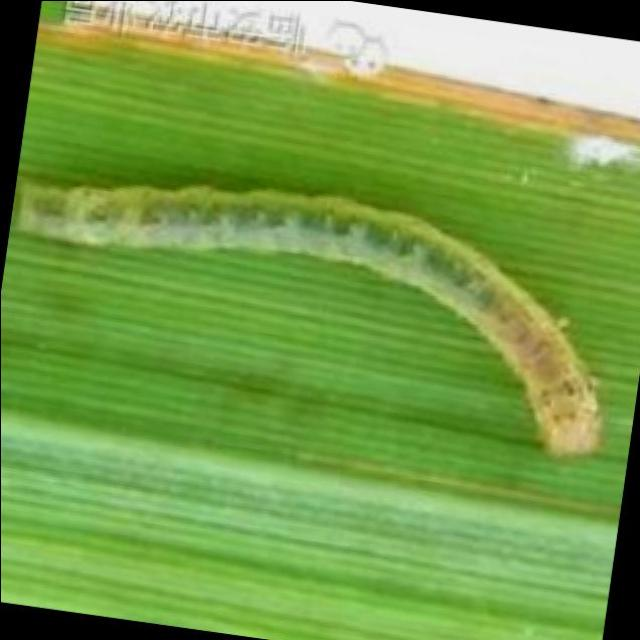leaf folder: (13, 185, 602, 455)
